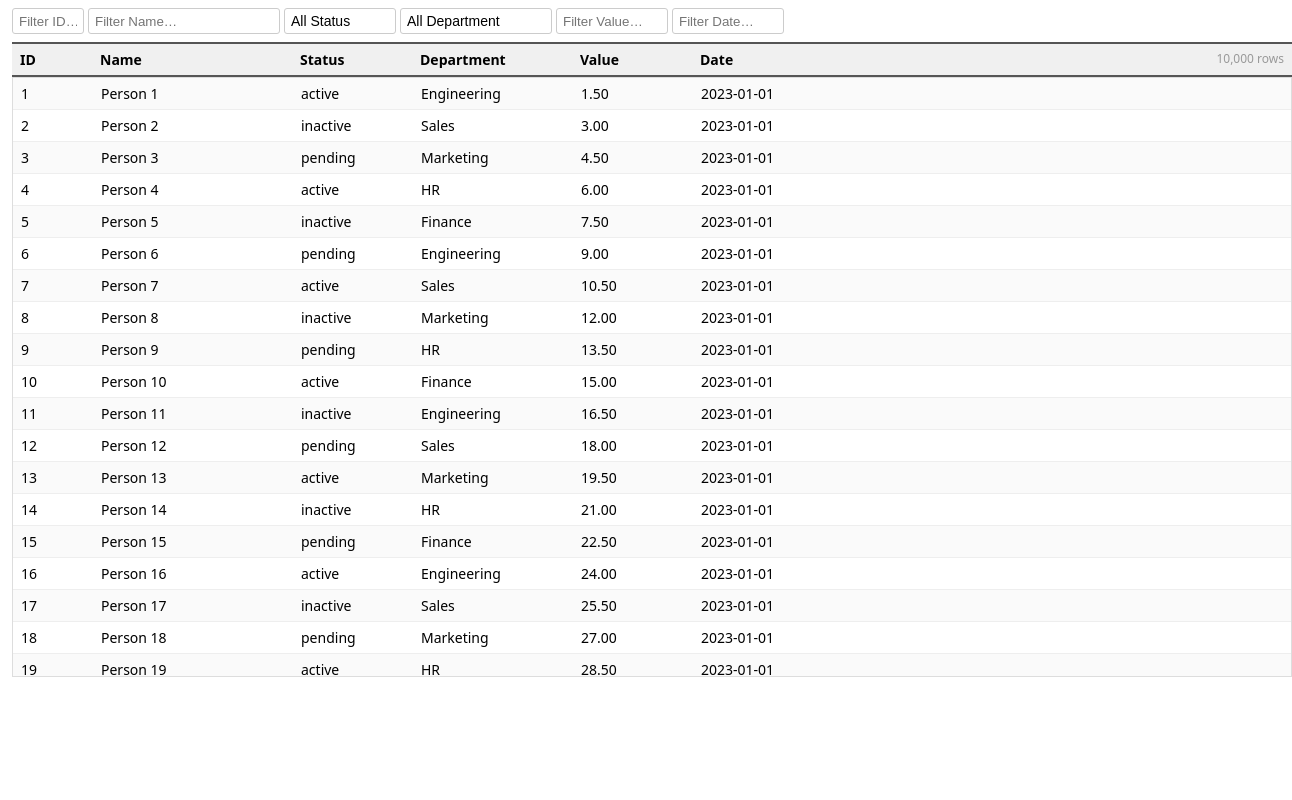
Test: VirtualTable Multi-Select Filter › opens dropdown when multi-select button is clicked
This screenshot has width=1292, height=800.
Click the button with test id "multiselect-status" at (340, 21), box [284, 8, 396, 34]
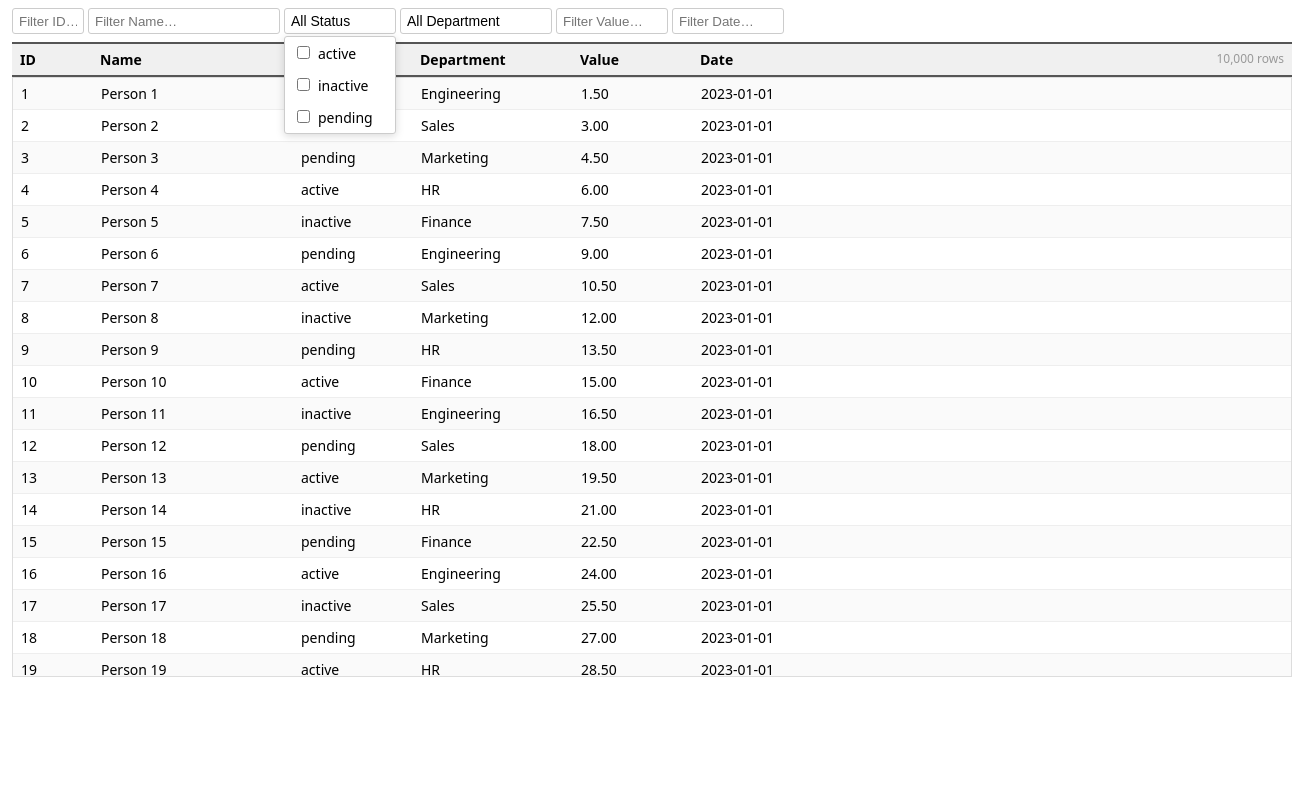
Expected: the element with test id "multiselect-dropdown-status" is shown, [284, 36, 396, 134]
